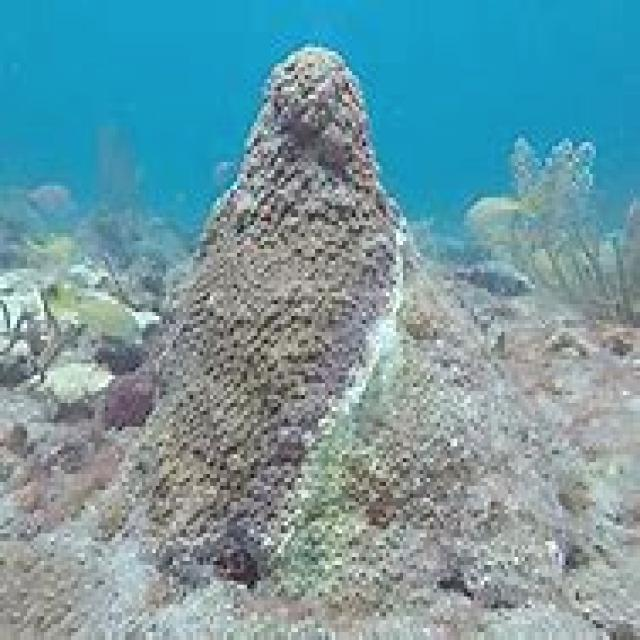Coral: (96, 45, 600, 610)
